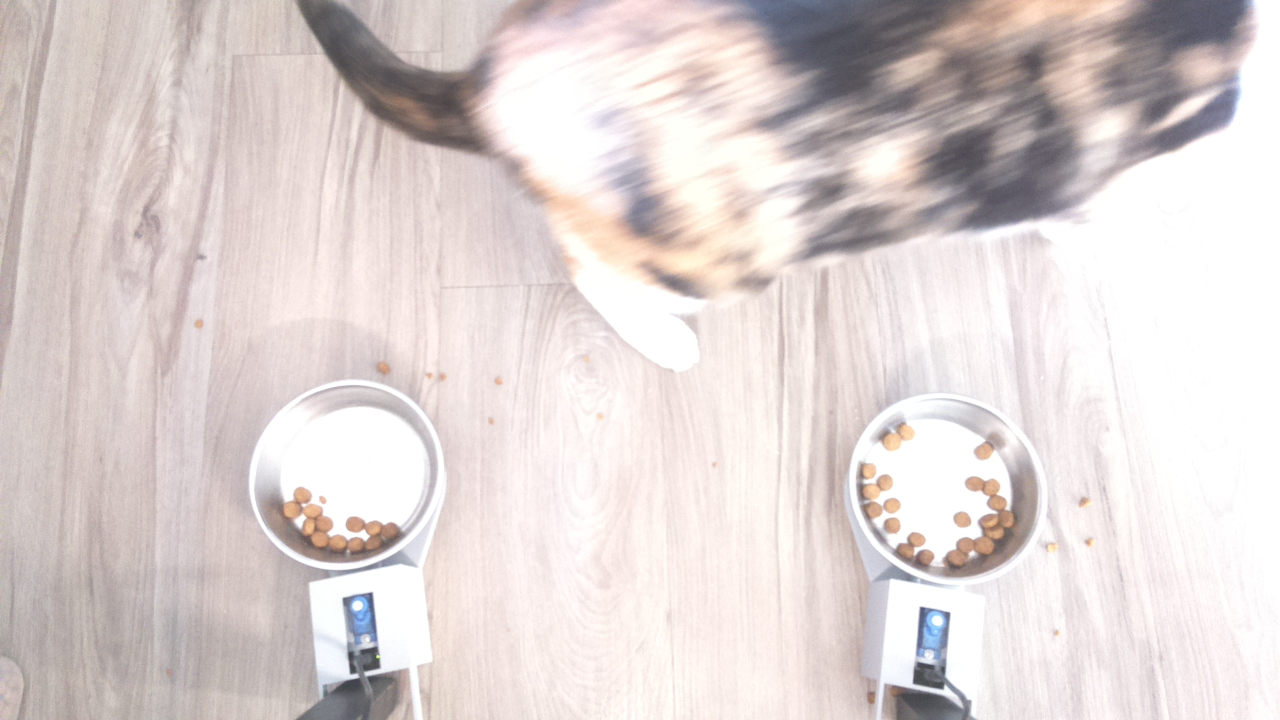open_bowl: (847, 387, 1056, 596), (244, 373, 445, 564)
